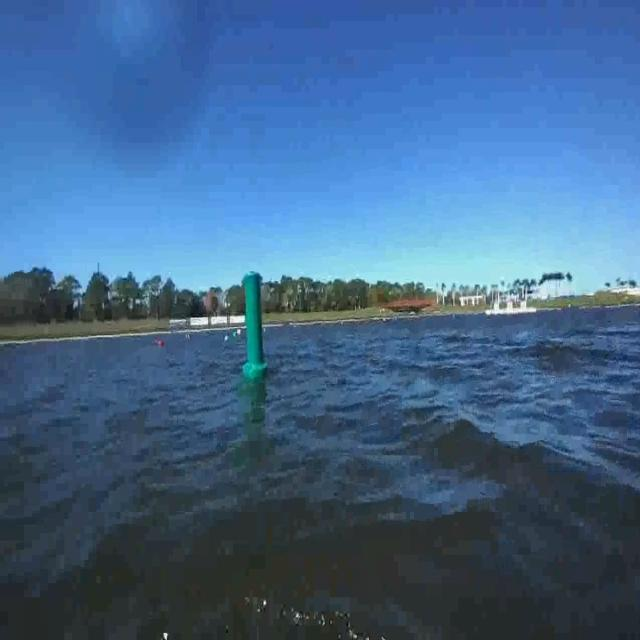green-column-buoy: (242, 272, 268, 379)
